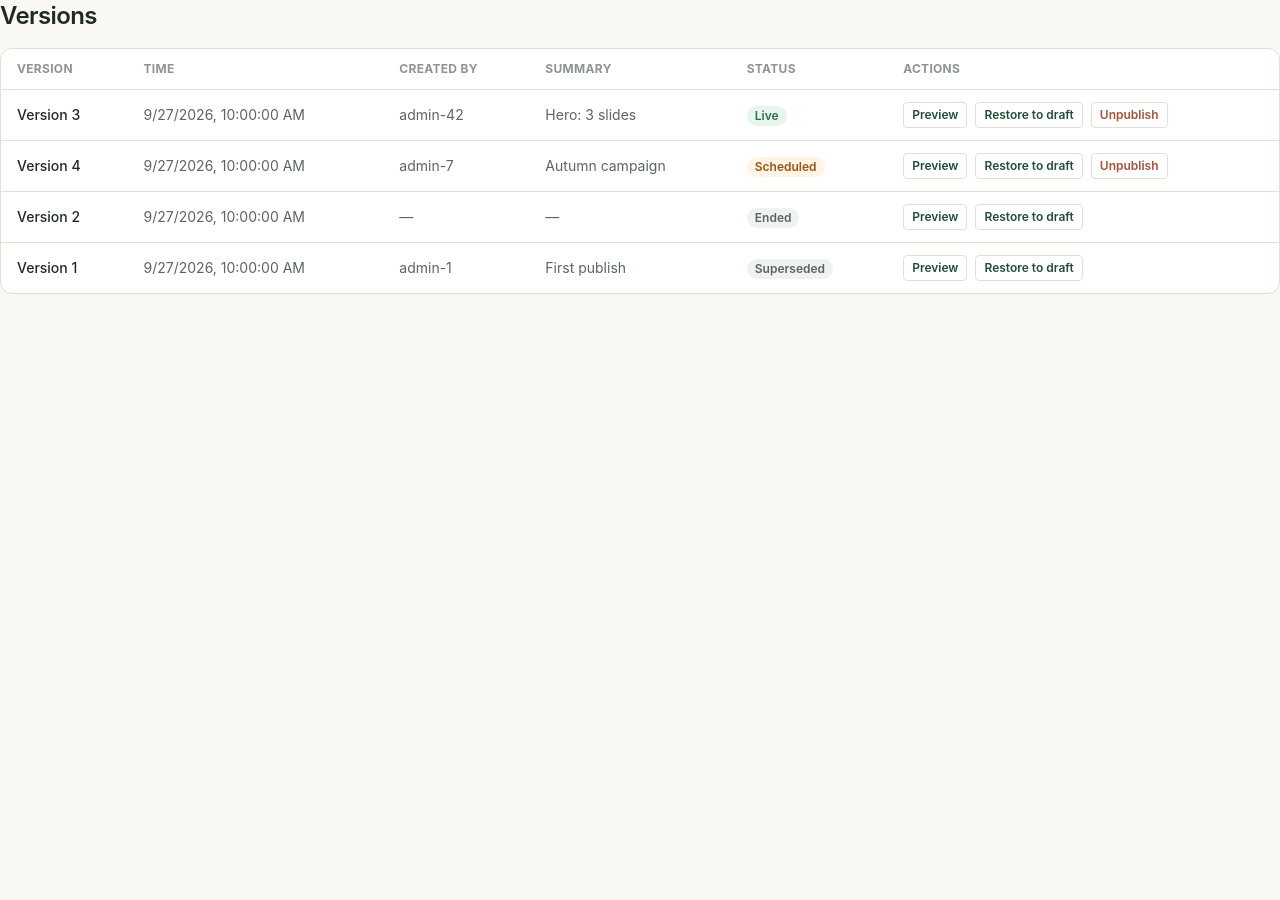
Test case: HomepageVersionsPage › restores a version into the draft without publishing and links back to the editor
The width and height of the screenshot is (1280, 900).
Step 1. Click the button "Restore to draft" in the row of "Version 3" → (1029, 115), box [976,102,1083,128]
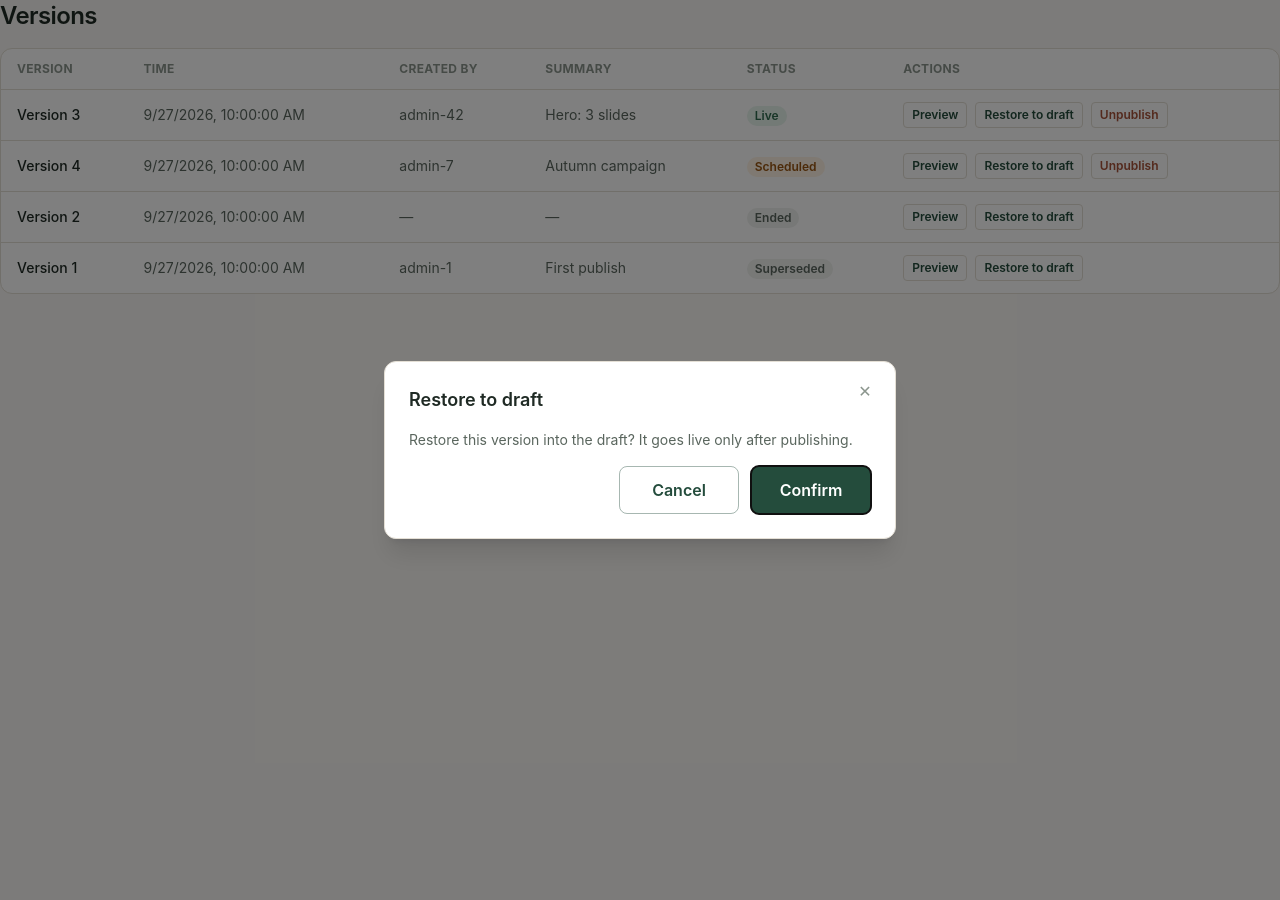
Result: the dialog "Restore to draft" is shown at [384,361,896,539]
Result: the text "Restore this version into the draft? It goes live only after publishing." is shown at [409,430,871,450]
Step 2. Click the button "Confirm" → (811, 490), box [751,466,871,514]
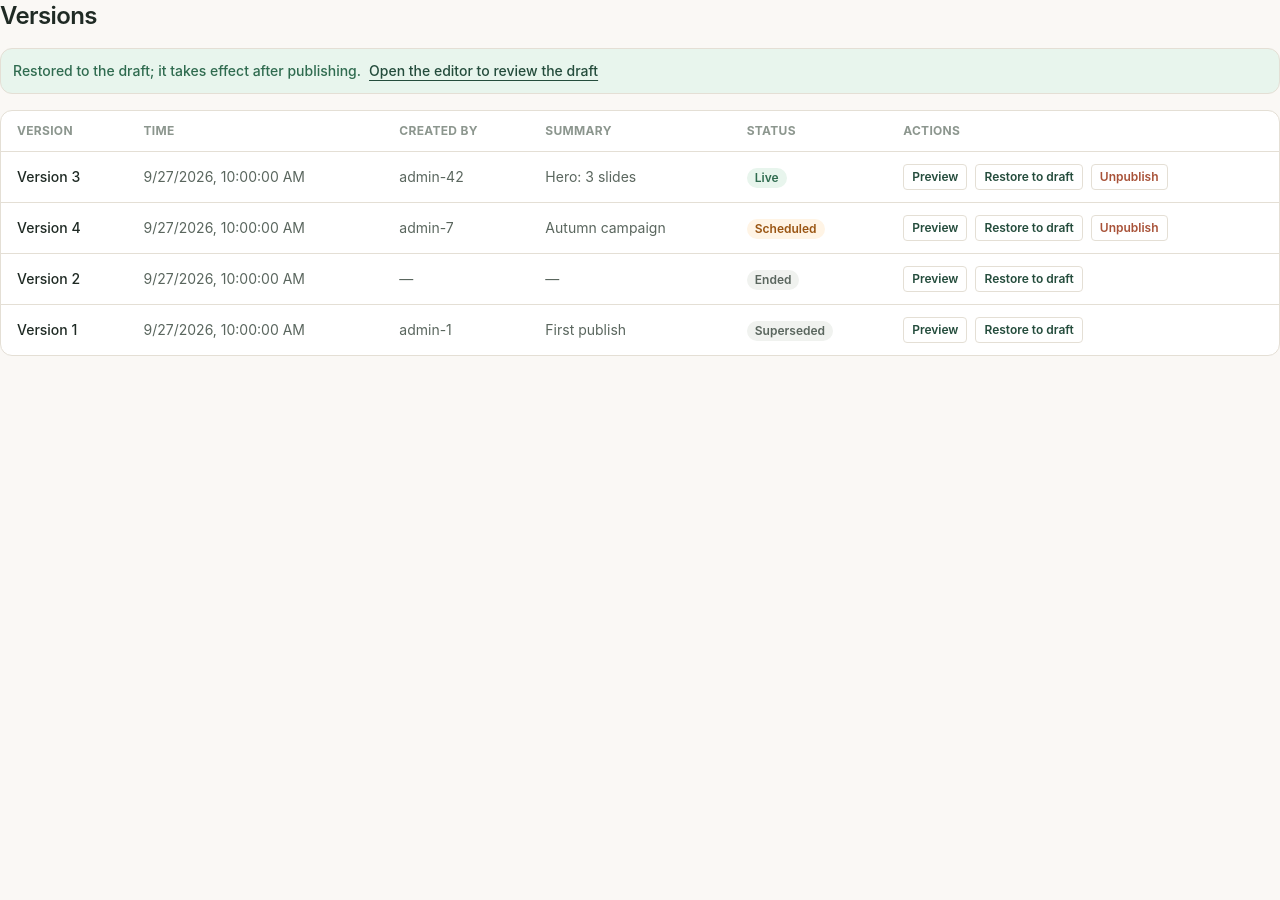
Result: the text "Restored to the draft; it takes effect after publishing." is shown at [13,62,361,79]
Result: the dialog is gone
